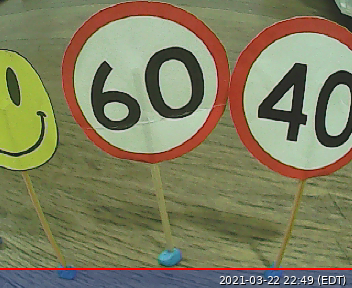Speed Limit 60: (60, 1, 228, 164)
